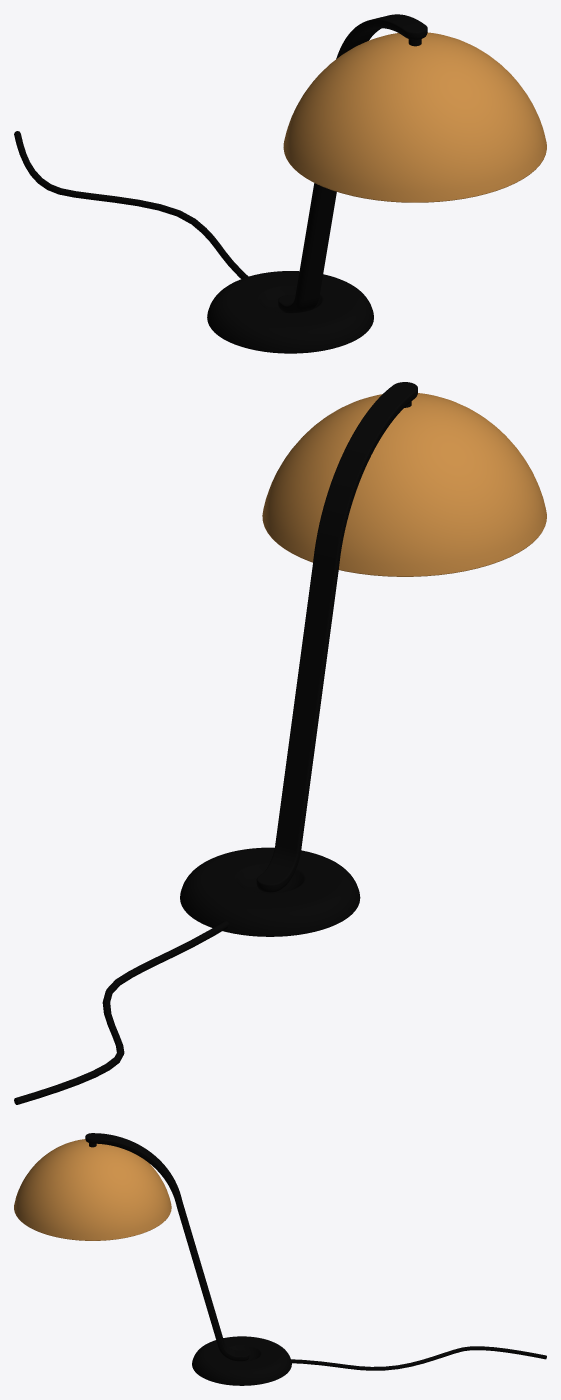
The model's file is Hay_Cloche_mat(1).fbx.
The picture shows the model from 3 angles, top to bottom: view 1: azimuth 30°, elevation 25°; view 2: azimuth 150°, elevation 25°; view 3: azimuth 270°, elevation 25°; orthographic projection. The views are drawn at different scales.
Parts seen in each view (by area): view 1: Hay_Cloche_mat1; view 2: Hay_Cloche_mat1; view 3: Hay_Cloche_mat1.
Part boxes in pixels (left/top/right/bottom): Hay_Cloche_mat1: left=14, top=14, right=546, bottom=353; Hay_Cloche_mat1: left=14, top=382, right=546, bottom=1104; Hay_Cloche_mat1: left=14, top=1133, right=546, bottom=1385.
Bounding box in the file's own units: 26.44 × 89.37 × 42.4.
